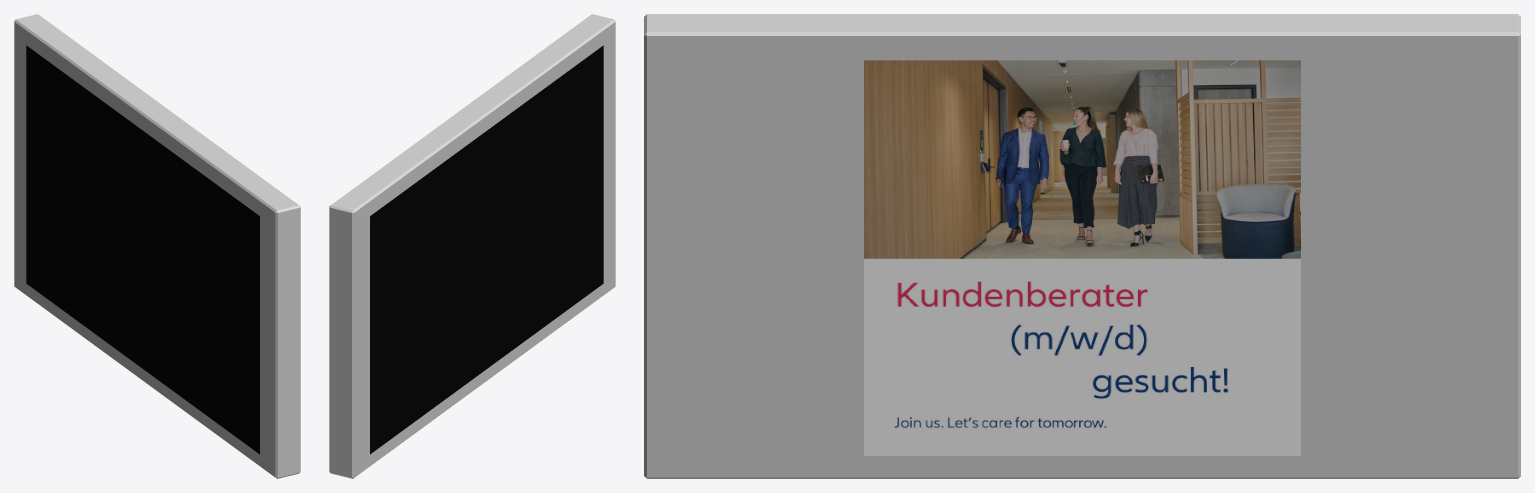
Rendered from delete.fbx.
3 renders of one model, left to right at view 1: azimuth 30°, elevation 25°; view 2: azimuth 150°, elevation 25°; view 3: azimuth 270°, elevation 25°, orthographic. The views are drawn at different scales.
Visible parts, largest first — view 1: screen_proyector, screen_main; view 2: screen_proyector, screen_main; view 3: screen_main.
Part boxes in pixels (x1,y1,x2,y2): screen_proyector: (26,45,259,454); screen_main: (14,14,300,478); screen_proyector: (370,45,603,454); screen_main: (329,14,615,478); screen_main: (644,14,1520,478).
Size of the model in its own units: 0.175 by 1.57 by 2.79.
Materials: 3 (1 with a texture image).
